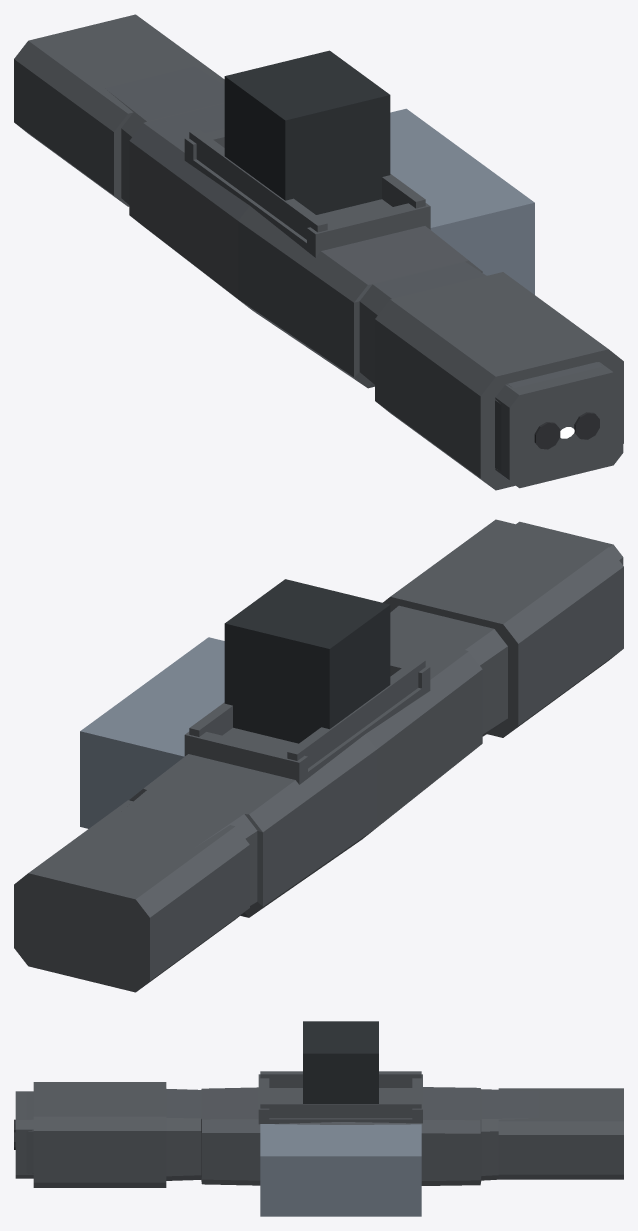
The picture shows the model from 3 angles, top to bottom: view 1: azimuth 30°, elevation 25°; view 2: azimuth 150°, elevation 25°; view 3: azimuth 270°, elevation 25°; orthographic projection. The views are drawn at different scales.
Visible parts, largest first — view 1: RIMWARD_HULL; view 2: RIMWARD_HULL; view 3: RIMWARD_HULL.
Part boxes in pixels (left/top/right/bottom): RIMWARD_HULL: left=14, top=14, right=623, bottom=490; RIMWARD_HULL: left=14, top=519, right=623, bottom=992; RIMWARD_HULL: left=14, top=1021, right=623, bottom=1216.
Size of the model in its own units: 1.9 by 1.64 by 6.81.
